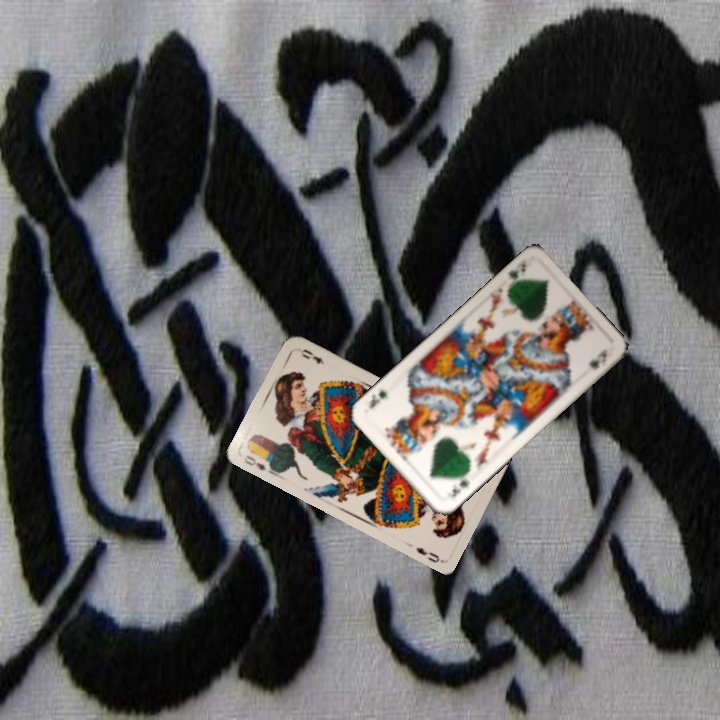EO: (240, 451, 276, 476)
GK: (443, 468, 472, 500), (504, 259, 528, 291)
